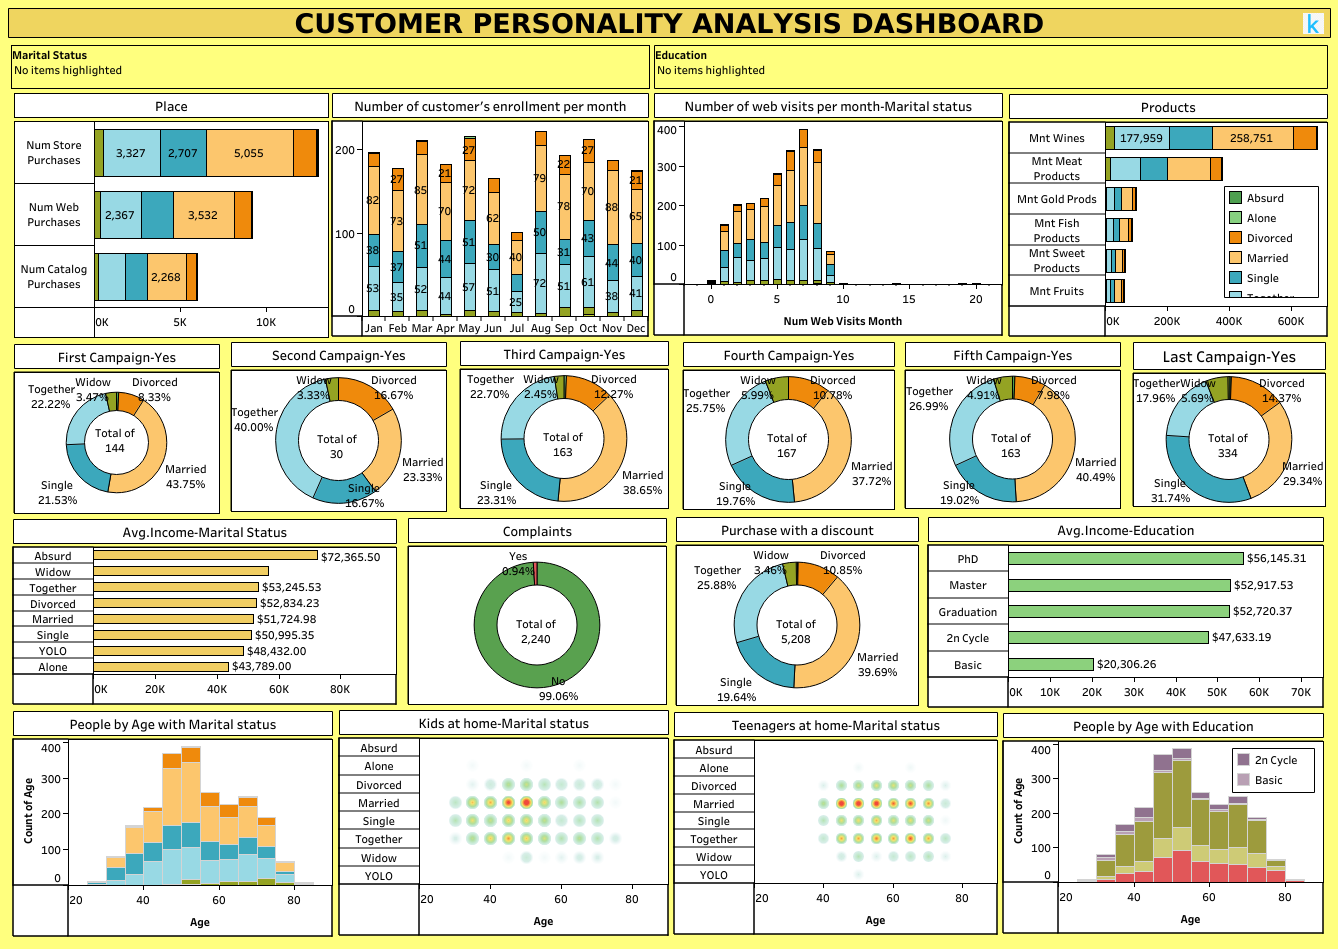

The page's visual inventory and layout, read from the dashboard file:
{"tool":"tableau","page":{"name":"Dashboard 1","canvas":[1000,1000],"units":"permille","ordinal":0},"visuals":[{"type":"text","box":[6,8.4,987.9,31.6]},{"type":"image","param":"Image/png-transparent-kaggle-logo-logos-logos-and-brands-icon-thumbnail (1).png","box":[972.8,13.7,15.8,63.2]},{"type":"highlighter","title":"Place-Marital status","param":"[federated.1lgka8o1ra6hqn16pfr7g0909ufk].[none:Marital_Status:nk]","box":[7.9,47.4,477.7,46.3]},{"type":"highlighter","title":"People by Age with Education","param":"[federated.1lgka8o1ra6hqn16pfr7g0909ufk].[none:Education:nk]","box":[488.2,47.4,503.9,46.3]},{"type":"worksheet","title":"Products-Marital status","mark":"Bar","box":[737.1,97.9,255,212.6]},{"type":"worksheet","title":"Place-Marital status","mark":"Automatic","box":[7.9,99,220.9,214.7]},{"type":"worksheet","title":"Number of customer's enrollment per month","mark":"Bar","rows":["ID"],"cols":["Dt_Customer"],"box":[231.4,99,229.6,214.7]},{"type":"worksheet","title":"Number of web visits per month-Marital status","mark":"Bar","rows":["ID"],"cols":["NumWebVisitsMonth"],"box":[465.4,99,267.3,212.6]},{"type":"legend","title":"Place-Marital status","param":"[federated.1lgka8o1ra6hqn16pfr7g0909ufk].[none:Marital_Status:nk]","box":[912.4,181.1,71.9,93.7]},{"type":"worksheet","title":"First Campaign-Yes","mark":"Pie","rows":["Calculation_255579318727462921","Calculation_255579318727462921"],"box":[7.9,318.9,191.9,188.4]},{"type":"worksheet","title":"Second Campaign-Yes","mark":"Pie","rows":["Calculation_255579318727462921","Calculation_255579318727462921"],"box":[203.3,318.9,198.1,187.4]},{"type":"worksheet","title":"Third Campaign-Yes","mark":"Pie","rows":["Calculation_255579318727462921","Calculation_255579318727462921"],"box":[404.9,318.9,171.8,187.4]},{"type":"worksheet","title":"Fourth Campaign-Yes","mark":"Pie","rows":["Calculation_255579318727462921","Calculation_255579318727462921"],"box":[581.1,318.9,185.8,186.3]},{"type":"worksheet","title":"Fifth Campaign-Yes","mark":"Pie","rows":["Calculation_255579318727462921","Calculation_255579318727462921"],"box":[770.4,318.9,221.7,184.2]},{"type":"worksheet","title":"Purchase iwth Discount","mark":"Pie","rows":["Calculation_255579318727462921","Calculation_255579318727462921"],"box":[608.2,511.6,185.8,190.5]},{"type":"worksheet","title":"Avg.Income-Education","mark":"Bar","rows":["Education"],"cols":["Income"],"box":[798.4,511.6,193.7,189.5]},{"type":"worksheet","title":"Last Campaign-Yes","mark":"Pie","rows":["Calculation_255579318727462921","Calculation_255579318727462921"],"box":[220,512.6,190.2,190.5]},{"type":"worksheet","title":"Complaints","mark":"Pie","rows":["Calculation_255579318727462921","Calculation_255579318727462921"],"box":[413.7,512.6,191.1,190.5]},{"type":"worksheet","title":"Avg.Income-Marital Status","mark":"Bar","rows":["Marital_Status"],"cols":["Income"],"box":[7.9,513.7,209.5,189.5]},{"type":"worksheet","title":"People by Age with Education","mark":"Automatic","rows":["Calculation_708472558219984896"],"cols":["Age (bin)"],"box":[748.5,708.4,244.5,274.7]},{"type":"worksheet","title":"People by Age with Marital status","mark":"Automatic","rows":["Calculation_708472558219984896"],"cols":["Age (bin)"],"box":[7.9,709.5,241,276.8]},{"type":"worksheet","title":"Kids at home-Marital status","mark":"Heatmap","rows":["Marital_Status"],"cols":["Age (bin)"],"box":[252.4,709.5,247.2,275.8]},{"type":"worksheet","title":"Teenagers at home-Marital status","mark":"Heatmap","rows":["Marital_Status"],"cols":["Age (bin)"],"box":[503.1,709.5,241.9,274.7]},{"type":"legend","title":"People by Age with Education","param":"[federated.1lgka8o1ra6hqn16pfr7g0909ufk].[none:Education:nk]","box":[939.5,744.2,50,88.4]}]}

Visuals, with their boxes on the dashboard's canvas, which has no fixed pixel size, in thousandths of its width and height (x1, y1, x2, y2). These are canvas units, not pixel positions in the 1338x949 screenshot, which may show the page scaled, cropped or inside an application window:
text: {"x1": 6, "y1": 8, "x2": 994, "y2": 40}
image: {"x1": 973, "y1": 14, "x2": 989, "y2": 77}
"Place-Marital status" highlighter: {"x1": 8, "y1": 47, "x2": 486, "y2": 94}
"People by Age with Education" highlighter: {"x1": 488, "y1": 47, "x2": 992, "y2": 94}
"Products-Marital status" worksheet (Bar marks): {"x1": 737, "y1": 98, "x2": 992, "y2": 310}
"Place-Marital status" worksheet: {"x1": 8, "y1": 99, "x2": 229, "y2": 314}
"Number of customer's enrollment per month" worksheet (Bar marks): {"x1": 231, "y1": 99, "x2": 461, "y2": 314}
"Number of web visits per month-Marital status" worksheet (Bar marks): {"x1": 465, "y1": 99, "x2": 733, "y2": 312}
"Place-Marital status" legend: {"x1": 912, "y1": 181, "x2": 984, "y2": 275}
"First Campaign-Yes" worksheet (Pie marks): {"x1": 8, "y1": 319, "x2": 200, "y2": 507}
"Second Campaign-Yes" worksheet (Pie marks): {"x1": 203, "y1": 319, "x2": 401, "y2": 506}
"Third Campaign-Yes" worksheet (Pie marks): {"x1": 405, "y1": 319, "x2": 577, "y2": 506}
"Fourth Campaign-Yes" worksheet (Pie marks): {"x1": 581, "y1": 319, "x2": 767, "y2": 505}
"Fifth Campaign-Yes" worksheet (Pie marks): {"x1": 770, "y1": 319, "x2": 992, "y2": 503}
"Purchase iwth Discount" worksheet (Pie marks): {"x1": 608, "y1": 512, "x2": 794, "y2": 702}
"Avg.Income-Education" worksheet (Bar marks): {"x1": 798, "y1": 512, "x2": 992, "y2": 701}
"Last Campaign-Yes" worksheet (Pie marks): {"x1": 220, "y1": 513, "x2": 410, "y2": 703}
"Complaints" worksheet (Pie marks): {"x1": 414, "y1": 513, "x2": 605, "y2": 703}
"Avg.Income-Marital Status" worksheet (Bar marks): {"x1": 8, "y1": 514, "x2": 217, "y2": 703}
"People by Age with Education" worksheet: {"x1": 748, "y1": 708, "x2": 993, "y2": 983}
"People by Age with Marital status" worksheet: {"x1": 8, "y1": 710, "x2": 249, "y2": 986}
"Kids at home-Marital status" worksheet (Heatmap marks): {"x1": 252, "y1": 710, "x2": 500, "y2": 985}
"Teenagers at home-Marital status" worksheet (Heatmap marks): {"x1": 503, "y1": 710, "x2": 745, "y2": 984}
"People by Age with Education" legend: {"x1": 940, "y1": 744, "x2": 990, "y2": 833}
